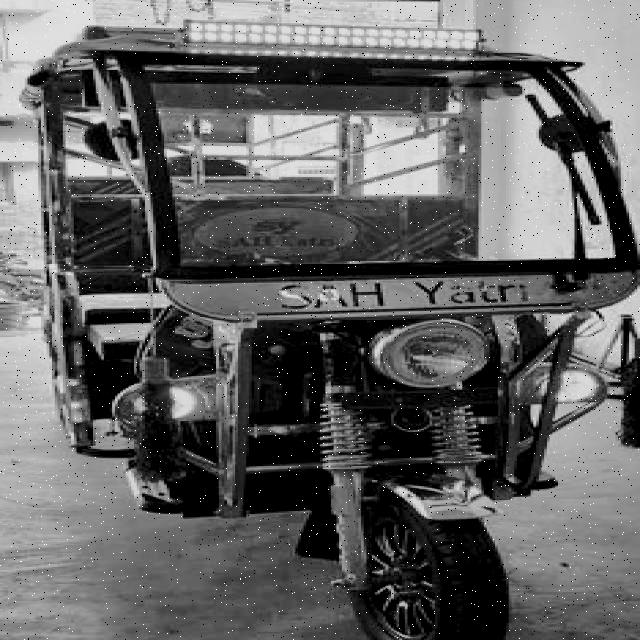Toto: (27, 14, 639, 640)
